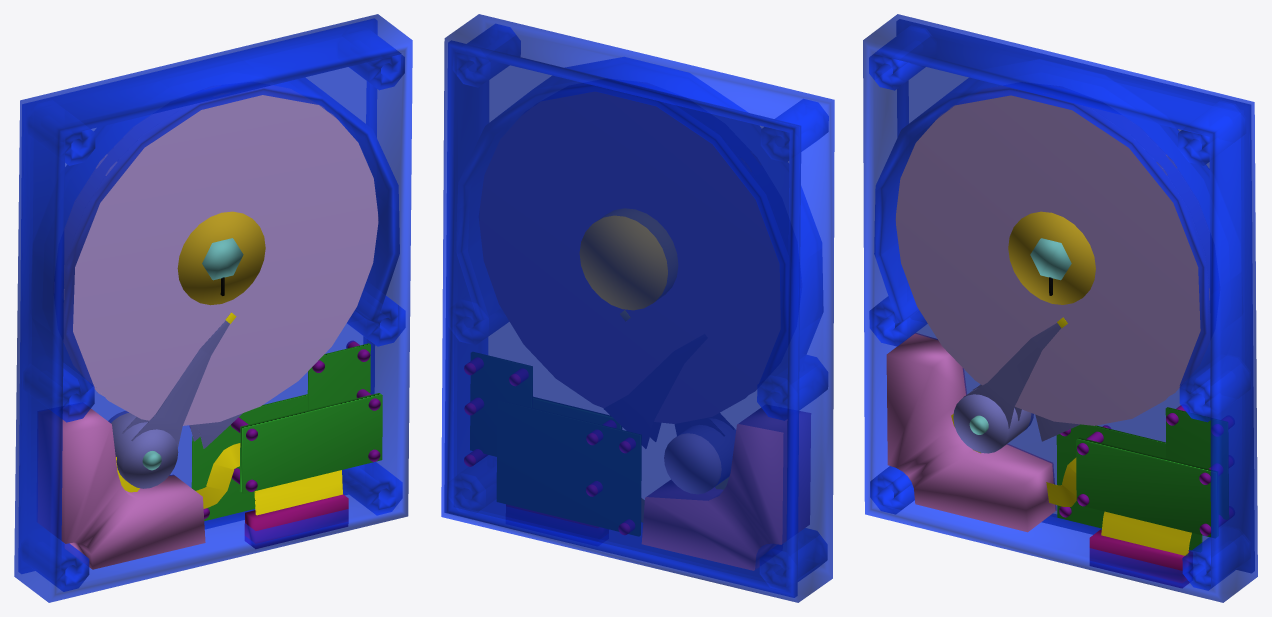
File: 15075_3_5__HDD.fbx
3 renders of one model, left to right at view 1: azimuth 30°, elevation 25°; view 2: azimuth 150°, elevation 25°; view 3: azimuth 330°, elevation 25°, orthographic.
Parts seen in each view (by area): view 1: VCyl11, Tube01_FAC, VBox07, Tube06_FAC, blok_mexa0, VBox10, VCyl13, VBox09, VBox05, VCyl01, VBox08, Tube02_FAC (+11 smaller); view 2: VBox07, VCyl12, Tube01_FAC, Tube06_FAC, blok_mexa0, VBox09, VCyl13, VCyl01, VBox08, Loft02_FA0, Tube07_FAC, Tube02_FAC (+5 smaller); view 3: VCyl11, Tube01_FAC, VBox07, Tube06_FAC, blok_mexa0, VBox10, VCyl13, VBox08, VBox05, VBox09, Tube03_FAC, VCyl01 (+11 smaller).
Part boxes in pixels (x1,y1,x2,y2): VCyl11: (64,89,378,425); Tube01_FAC: (14,14,412,602); VBox07: (18,18,377,573); Tube06_FAC: (30,59,399,394); blok_mexa0: (37,403,205,569); VBox10: (239,393,382,493); VCyl13: (177,211,265,305); VBox09: (191,394,307,520); VBox05: (244,494,348,548); VCyl01: (108,411,178,488); VBox08: (307,343,370,409); Tube02_FAC: (27,100,95,165); VBox07: (444,40,800,597); VCyl12: (479,92,780,423); Tube01_FAC: (441,14,834,602); Tube06_FAC: (456,57,823,391); blok_mexa0: (641,408,810,570); VBox09: (497,400,641,535); VCyl13: (579,208,677,310); VCyl01: (664,418,735,494); VBox08: (470,352,532,456); Loft02_FA0: (604,334,707,448); Tube07_FAC: (757,355,827,420); Tube02_FAC: (761,99,828,162); VCyl11: (895,89,1209,425); Tube01_FAC: (863,14,1257,602); VBox07: (896,19,1254,573); Tube06_FAC: (874,59,1242,393); blok_mexa0: (886,333,1056,532); VBox10: (1076,437,1218,537); VCyl13: (1008,211,1095,304); VBox08: (1165,407,1228,519); VBox05: (1089,529,1192,587); VBox09: (1056,424,1202,551); Tube03_FAC: (1178,101,1245,165); VCyl01: (953,384,1033,453).
Bounding box in the file's own units: 16.98 × 21.88 × 3.15.
